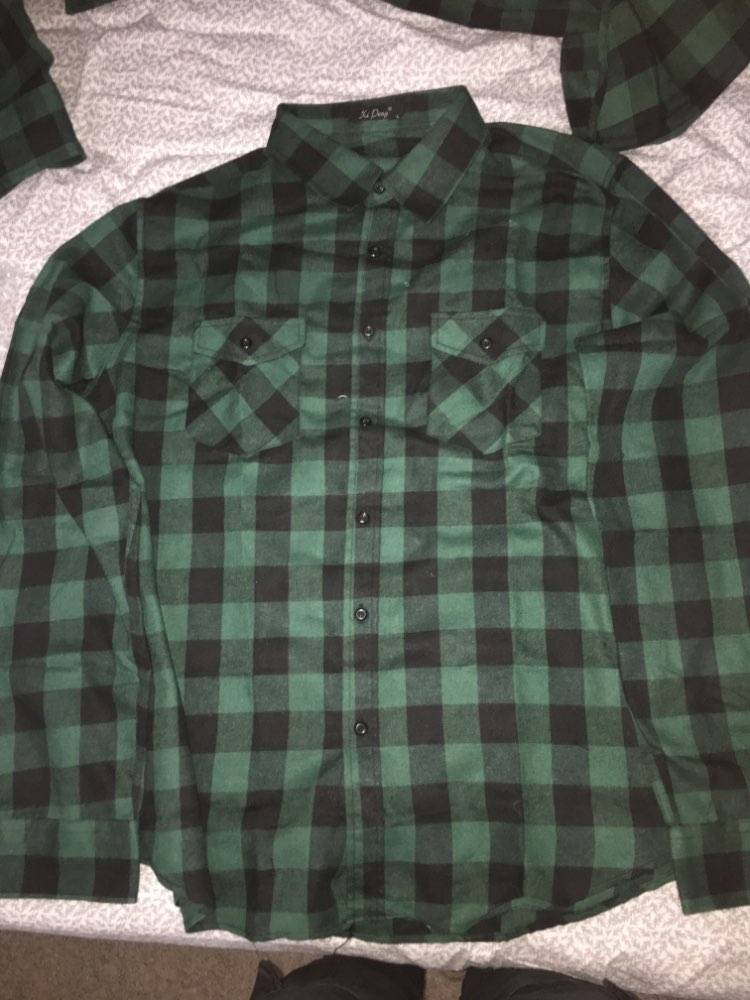shirts: (8, 100, 750, 946)
